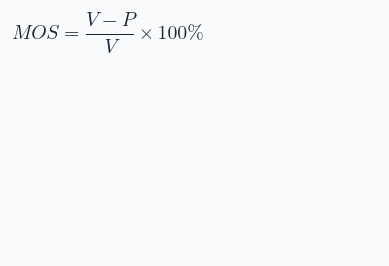
it: QuizFormulaPicture › rê chuột vào ký hiệu có bước tính thì mở ĐÚNG khung của thẻ Công thức
Step 1. Hover over the 1st text "V" → (92, 19), box [86,12,97,26]
Wait 150 ms
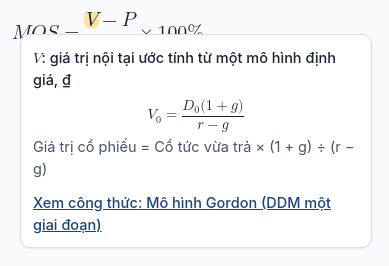
Expected: the element named "Cách tính: giá trị nội tại ước tính từ một mô hình định giá," shows "giá trị nội tại", [33,49,336,88]
Expected: the element showing "V 0 = D 0 ( 1 + g ) r g" is shown, [147,98,244,132]
